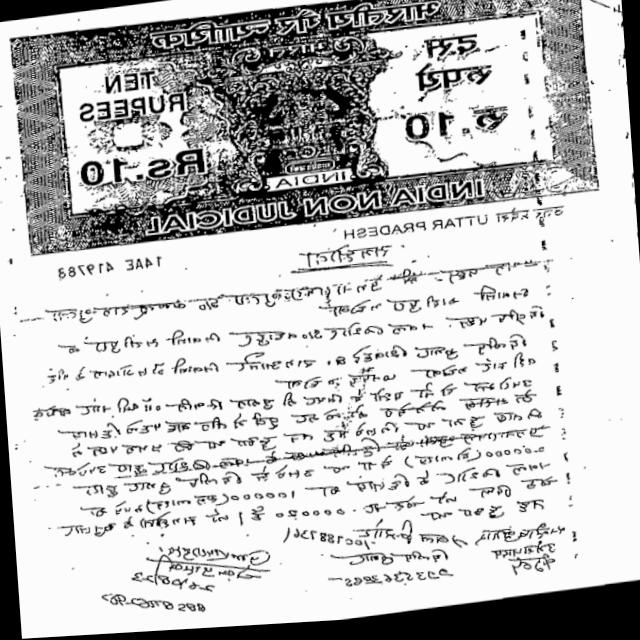afidivitstamp: (14, 0, 598, 263)
